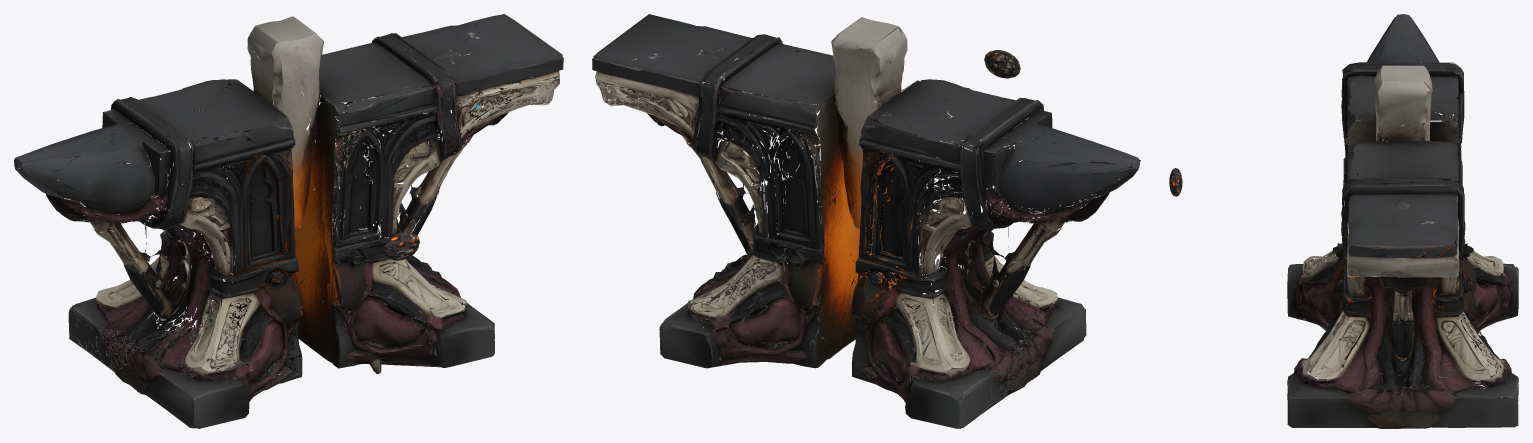
Rendered from rhun_refusal_split_anvil_wedge.glb.
3 views of the same model, side by side, from view 1: azimuth 30°, elevation 25°; view 2: azimuth 150°, elevation 25°; view 3: azimuth 270°, elevation 25° (orthographic). The views are drawn at different scales.
Visible parts, largest first — view 1: node_0, HB_PULSE_00; view 2: node_0, HB_PULSE_00; view 3: node_0.
Part boxes in pixels (x1=…): node_0: x1=14, y1=14, x2=563, y2=428; HB_PULSE_00: x1=383, y1=232, x2=419, y2=260; node_0: x1=592, y1=14, x2=1140, y2=428; HB_PULSE_00: x1=984, y1=50, x2=1020, y2=78; node_0: x1=1287, y1=14, x2=1518, y2=428.
Size of the model in its own units: 1.13 by 0.6746 by 0.7219.
1 material, 1 textured.
